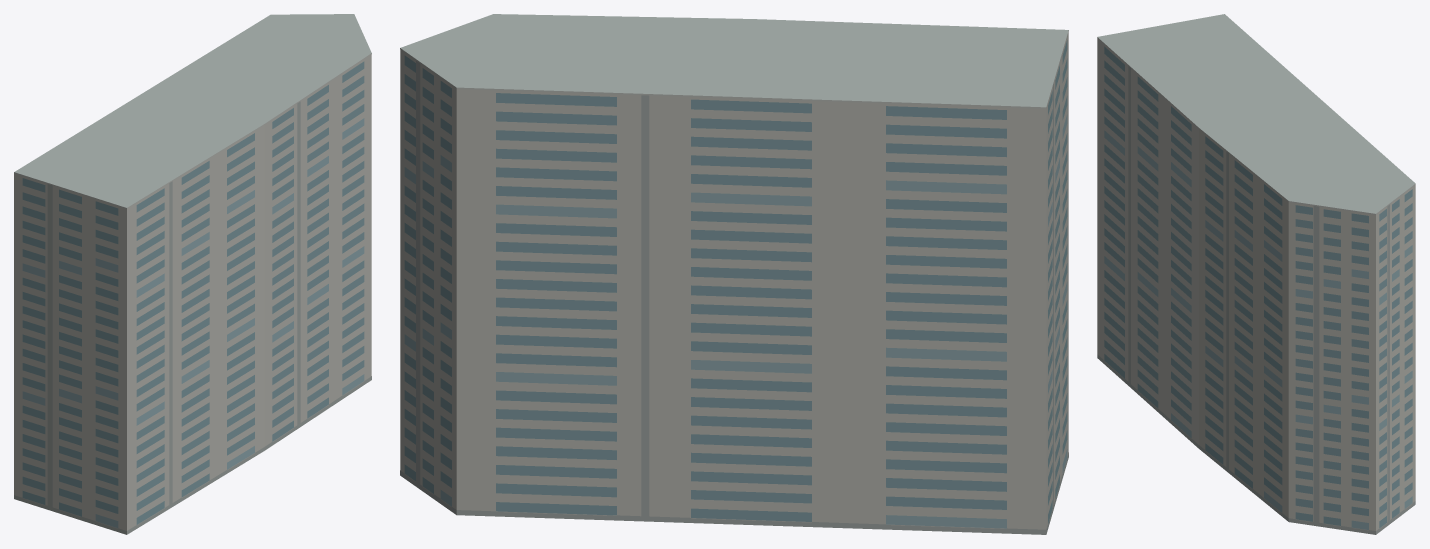
File: residential-de6bafbd-06a3-41e6-bd61-2f5538c6ff06.glb
3 renders of one model, left to right at view 1: azimuth 30°, elevation 25°; view 2: azimuth 150°, elevation 25°; view 3: azimuth 270°, elevation 25°, orthographic. The views are drawn at different scales.
Visible parts, largest first — view 1: residential-de6bafbd-06a3-41e6-bd61-2f5538c6ff06.tmp; view 2: residential-de6bafbd-06a3-41e6-bd61-2f5538c6ff06.tmp; view 3: residential-de6bafbd-06a3-41e6-bd61-2f5538c6ff06.tmp.
Boxes of the visible parts, x1,y1,x2,y2 form: residential-de6bafbd-06a3-41e6-bd61-2f5538c6ff06.tmp: [14, 14, 371, 534]; residential-de6bafbd-06a3-41e6-bd61-2f5538c6ff06.tmp: [400, 14, 1068, 534]; residential-de6bafbd-06a3-41e6-bd61-2f5538c6ff06.tmp: [1097, 14, 1415, 534].
Bounding box in the file's own units: 93.66 × 70.15 × 63.07.
